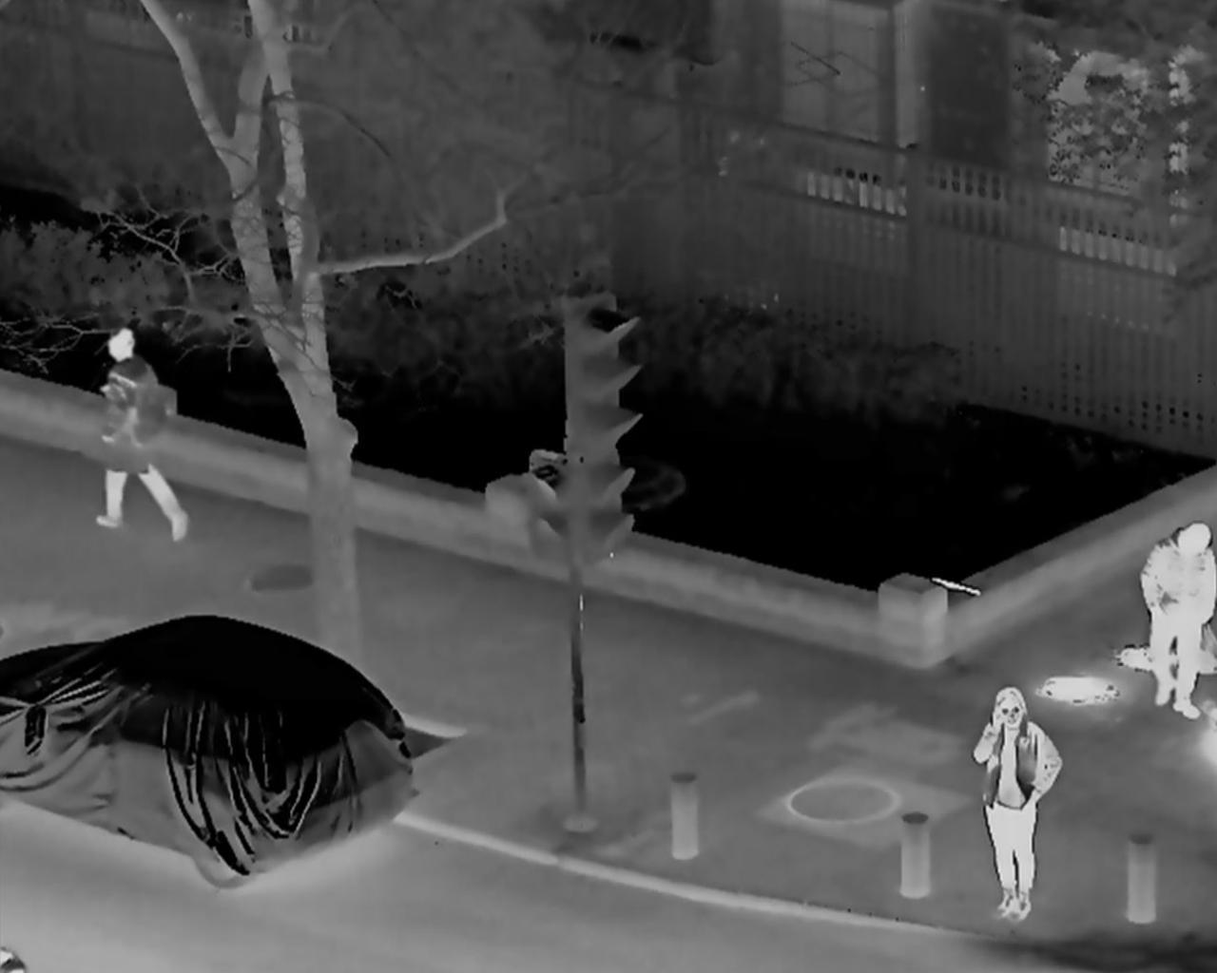person: (96, 326, 189, 541), (971, 689, 1054, 924), (1147, 522, 1213, 727)
